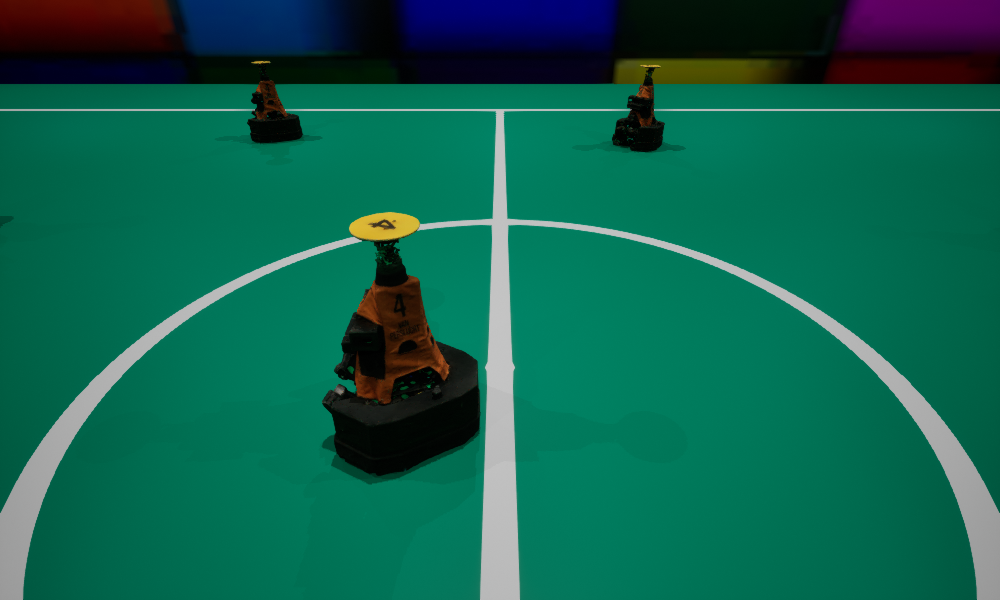o: (322, 212, 479, 475), (247, 61, 302, 142), (612, 65, 664, 150)
